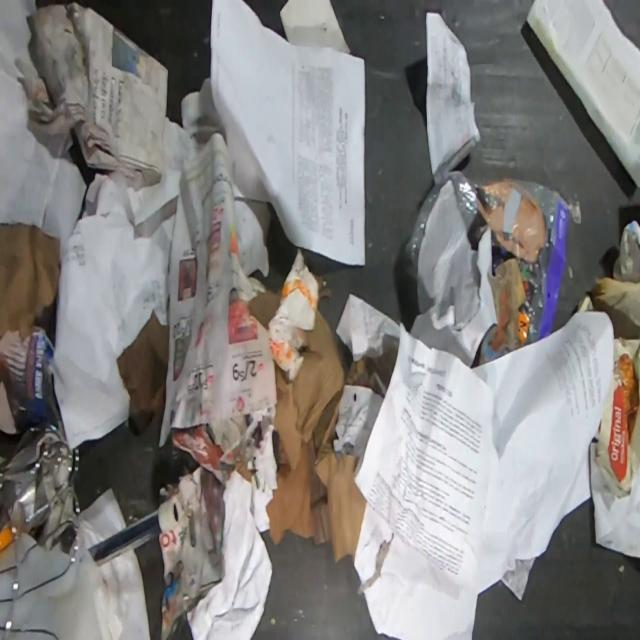cardboard: (264, 274, 399, 564), (594, 336, 640, 499)
metal: (0, 419, 82, 640), (88, 495, 183, 570)
soft_plastic: (406, 157, 582, 351)
